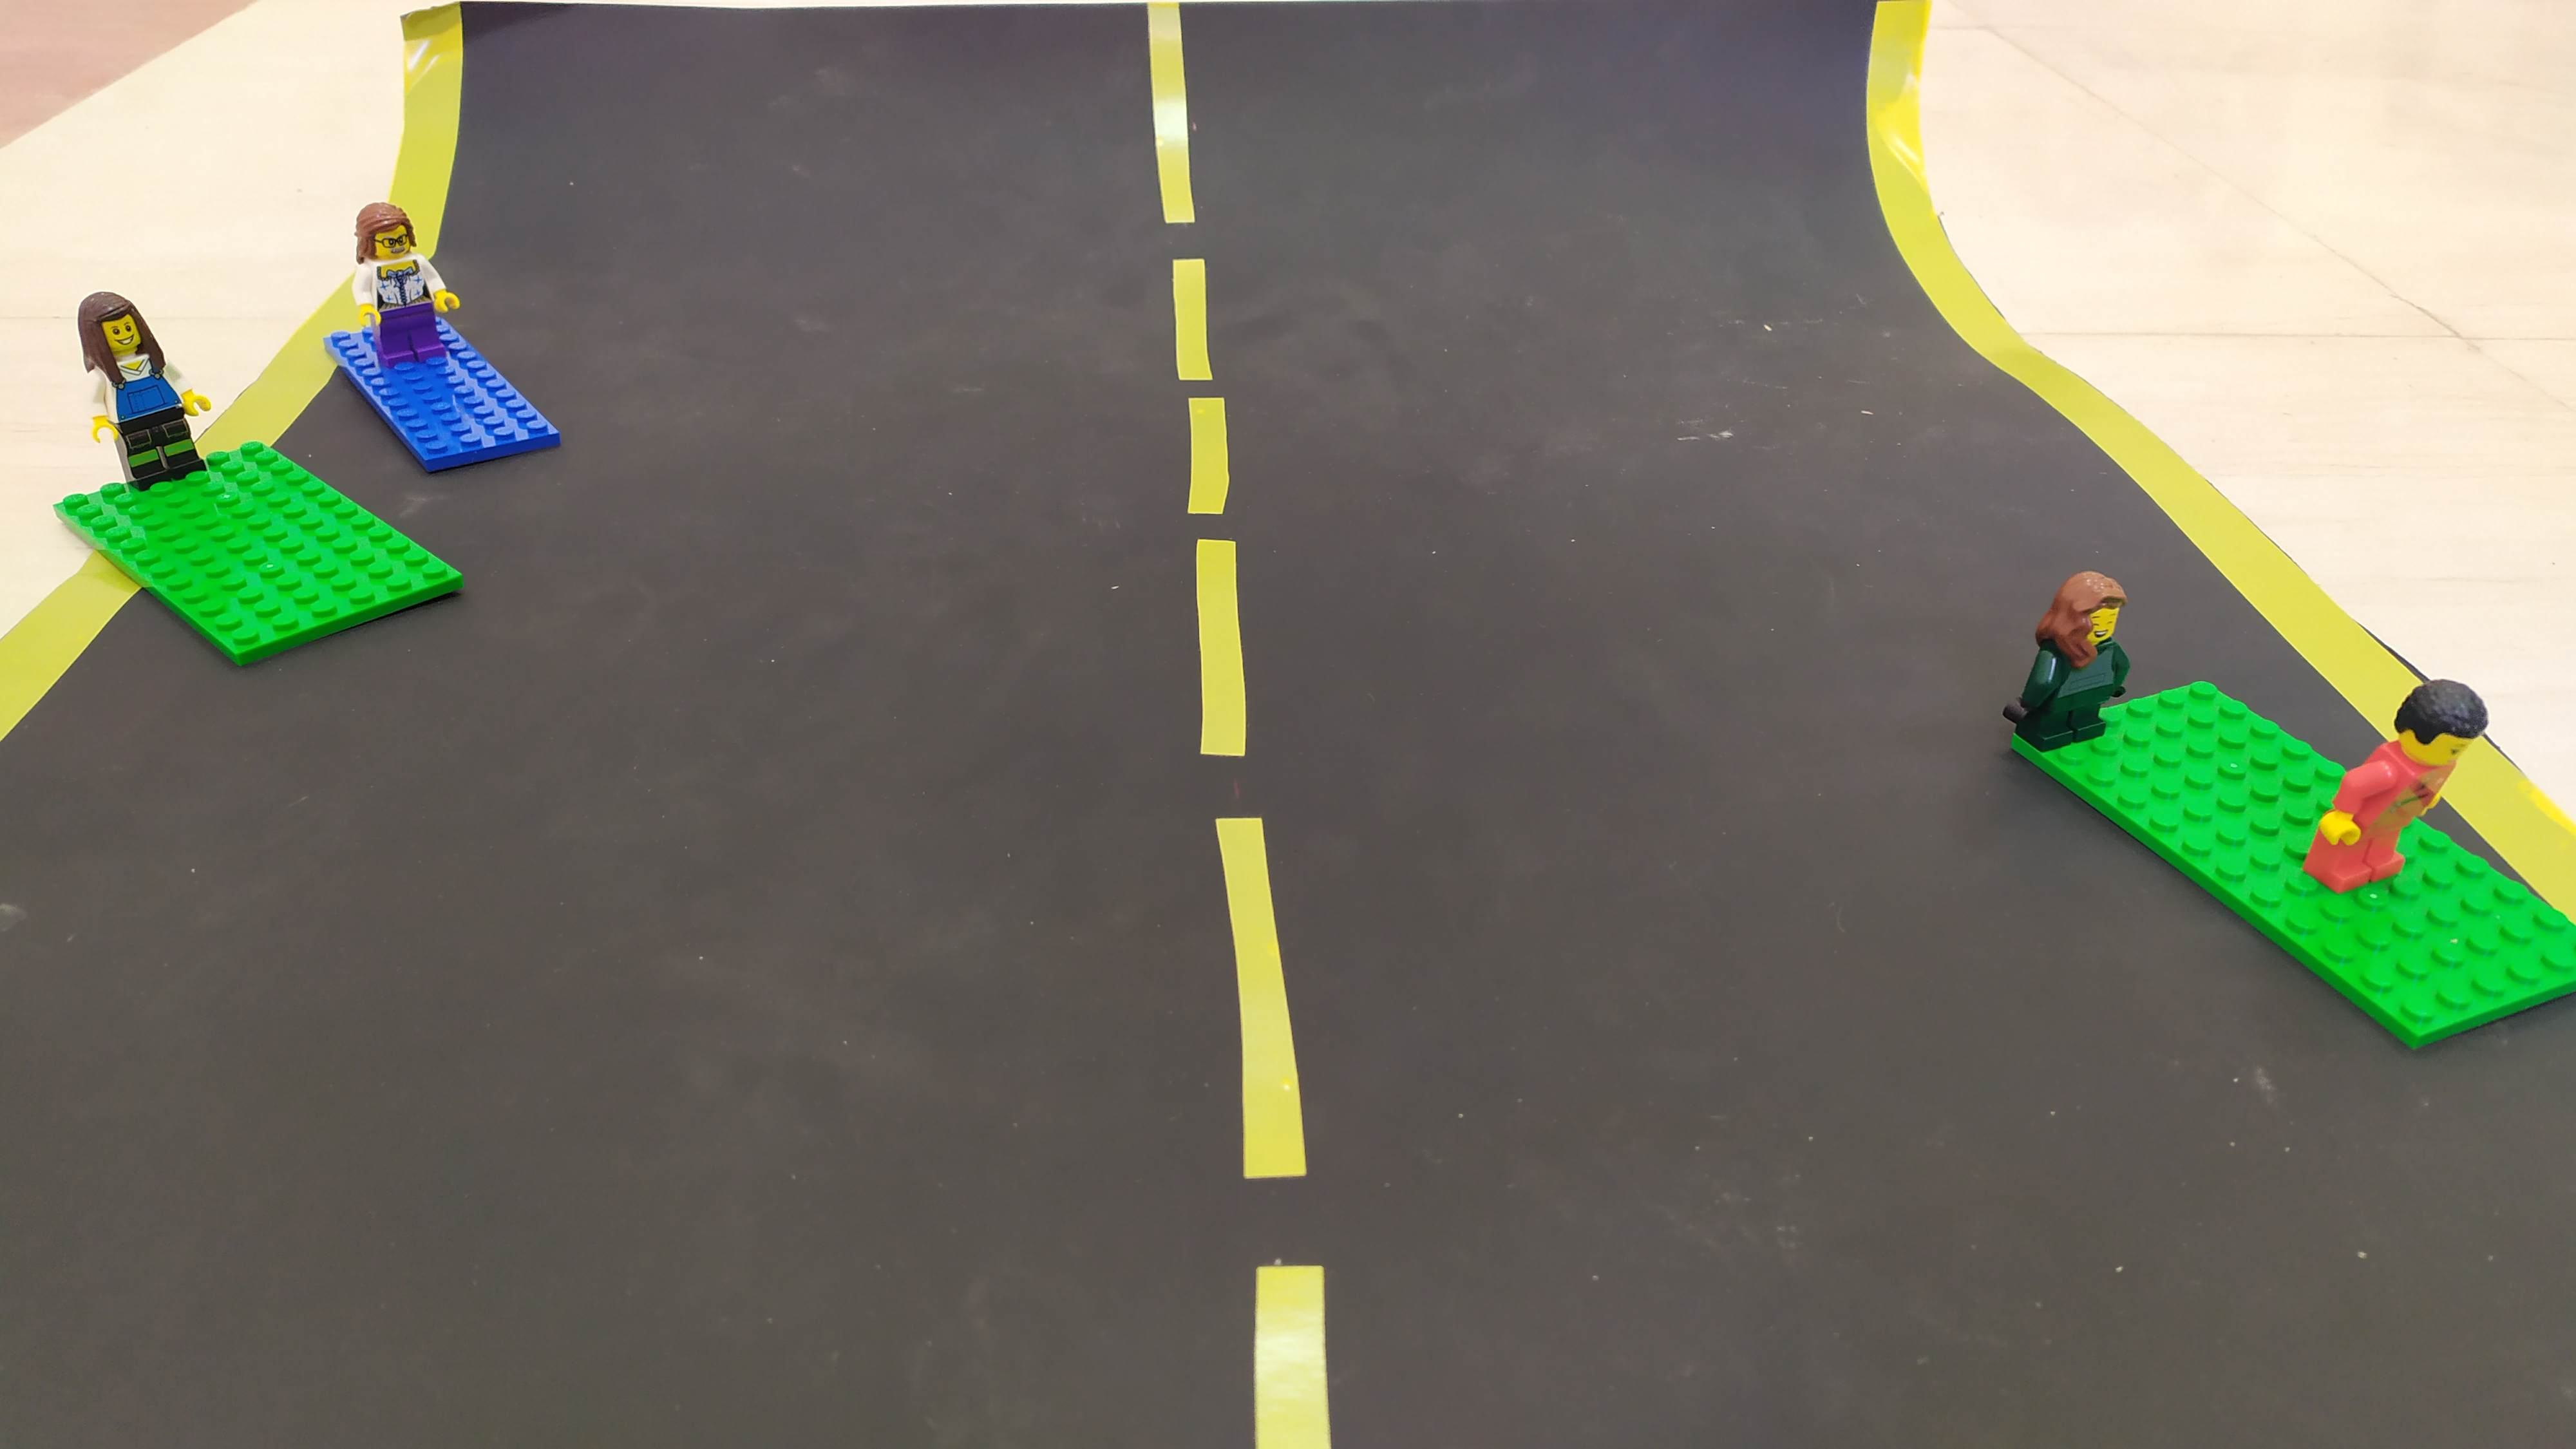Person: (2322, 673, 2483, 911), (80, 280, 229, 499), (338, 203, 486, 402), (2012, 551, 2141, 776)
